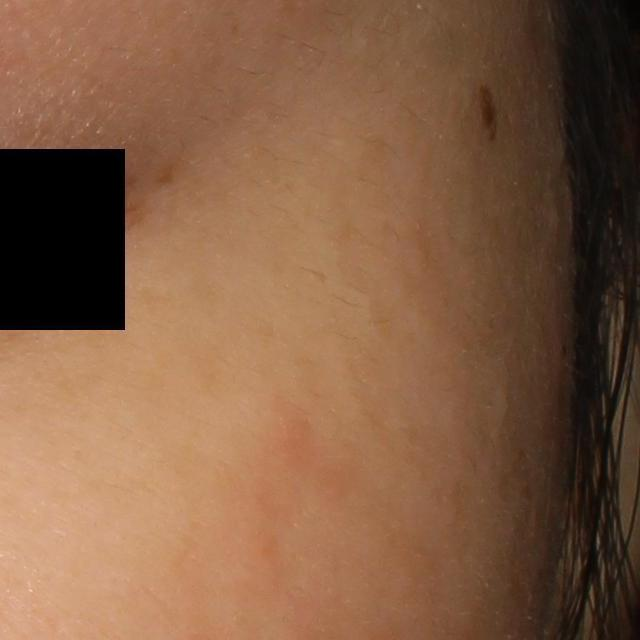nevus: (478, 87, 495, 140)
